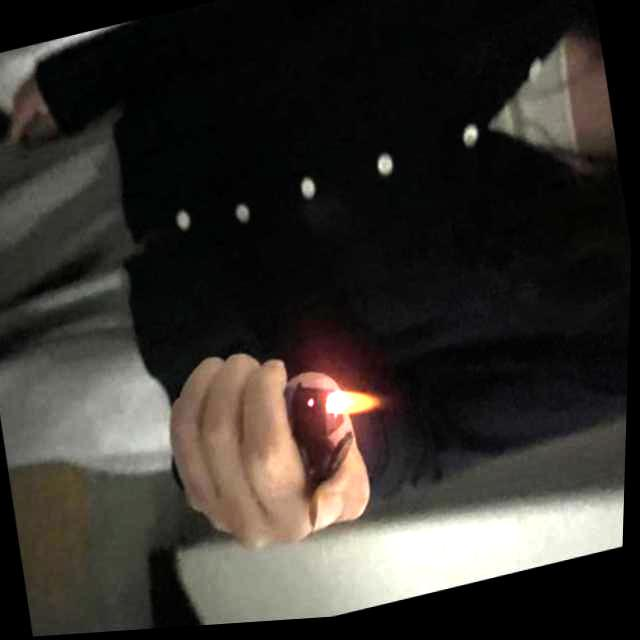fire: (323, 381, 383, 429)
